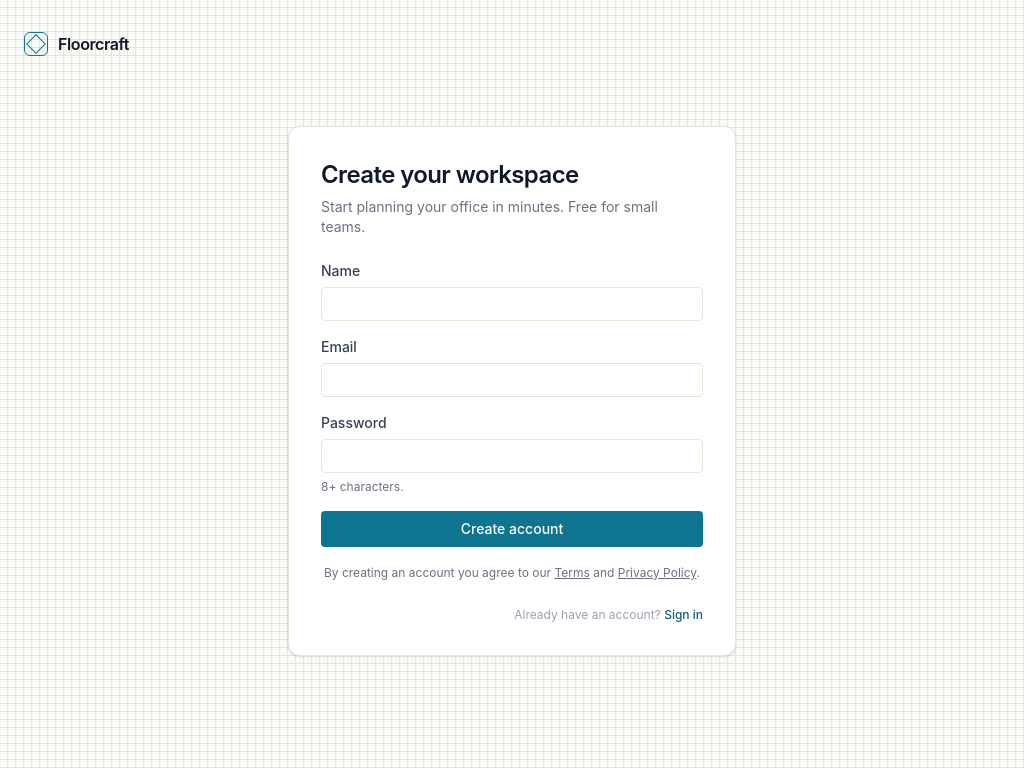
Scenario: SignupPage › submits email, password, name
Type "Alice" into the field labelled "Name".
click(512, 304); type("Alice")  # box top-left (321, 287), bottom-right (703, 321)
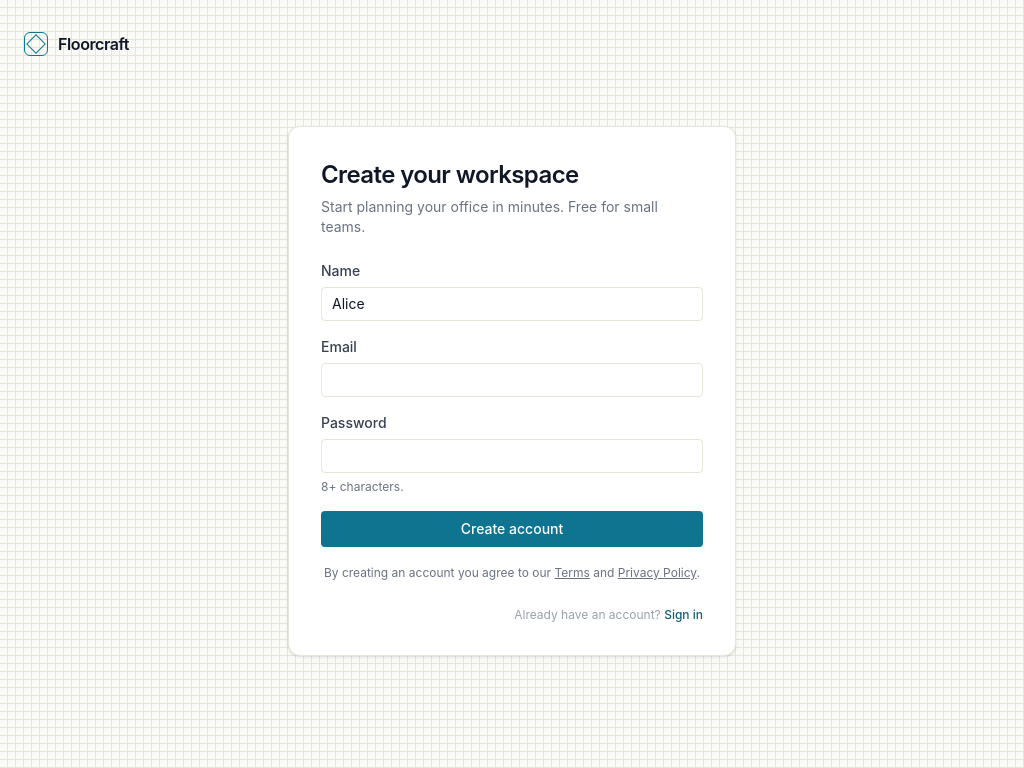
Type "a@b.c" into the field labelled "Email".
click(512, 380); type("a@b.c")  # box top-left (321, 363), bottom-right (703, 397)
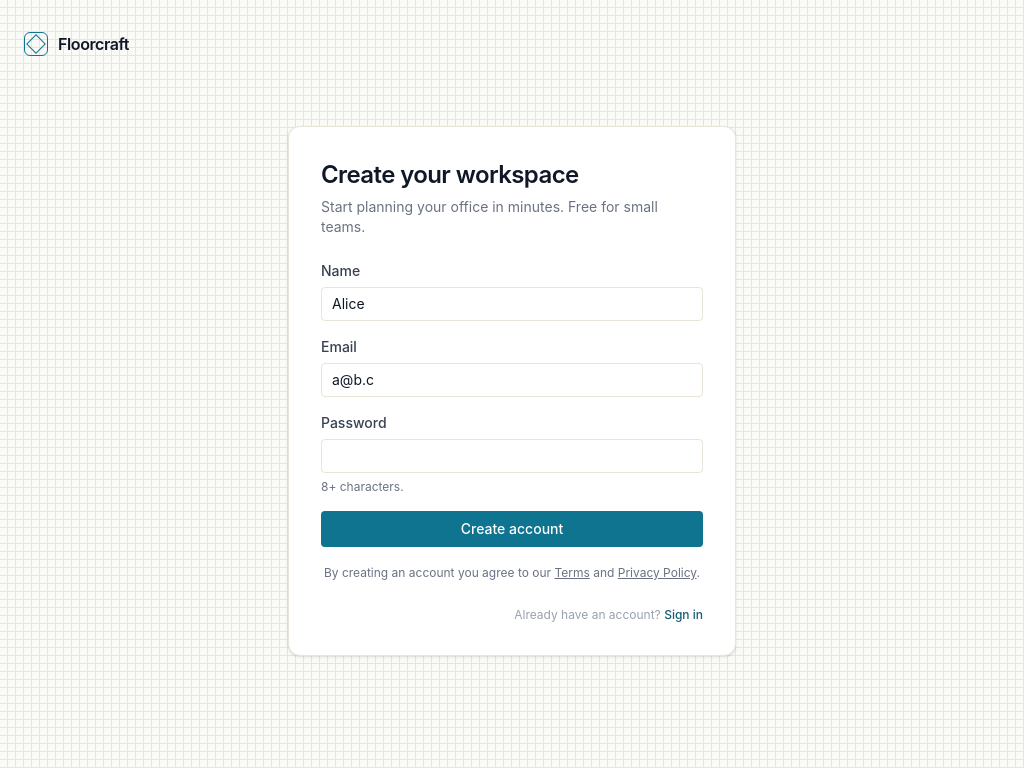
Type "hunter2" into the password field labelled "Password".
click(512, 456); type("hunter2")  # box top-left (321, 439), bottom-right (703, 473)
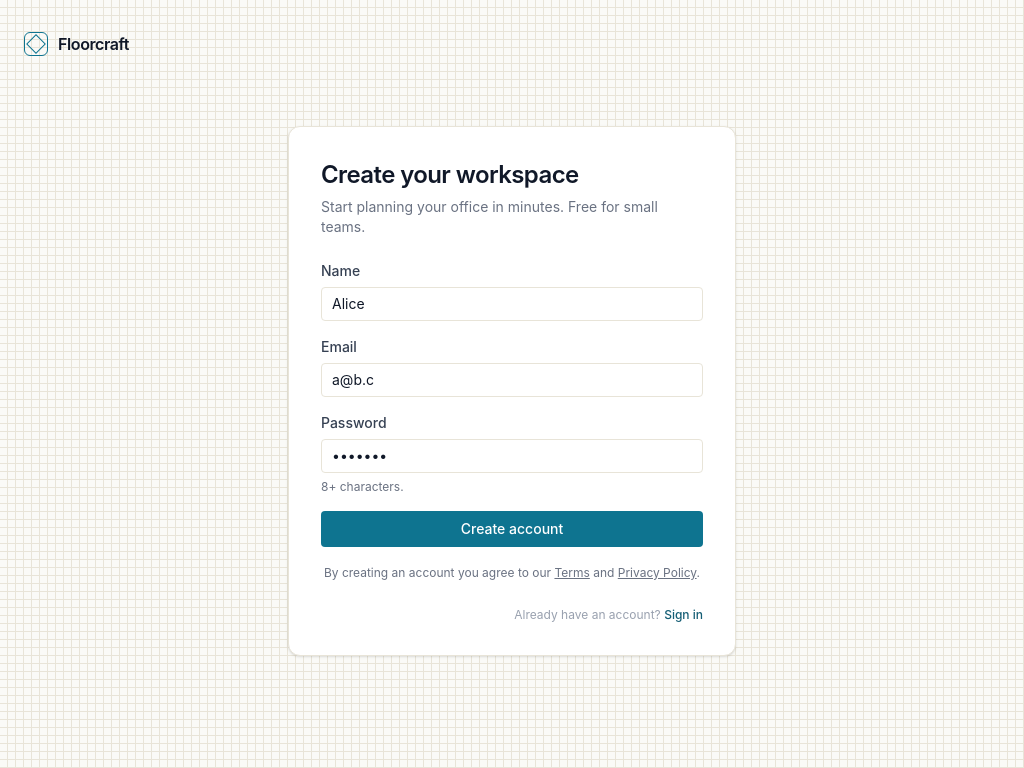
Click the button "Create account".
click(512, 529)  # box top-left (321, 511), bottom-right (703, 547)
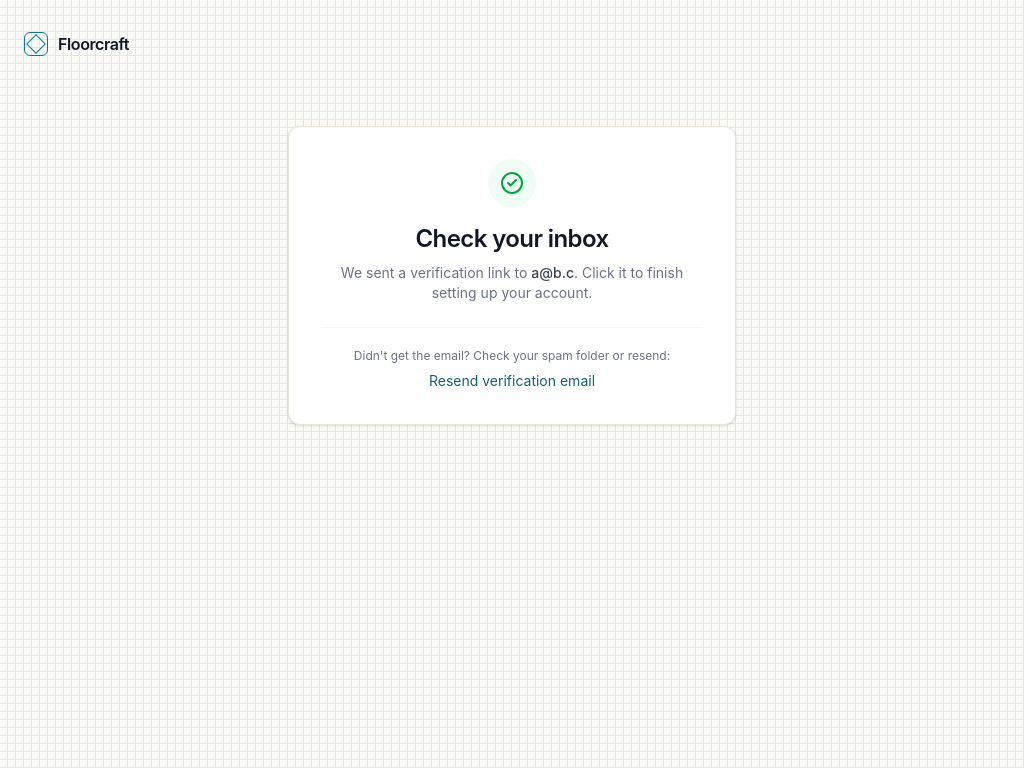
Check: the heading "Check your inbox" is shown, box top-left (416, 223), bottom-right (608, 255)
